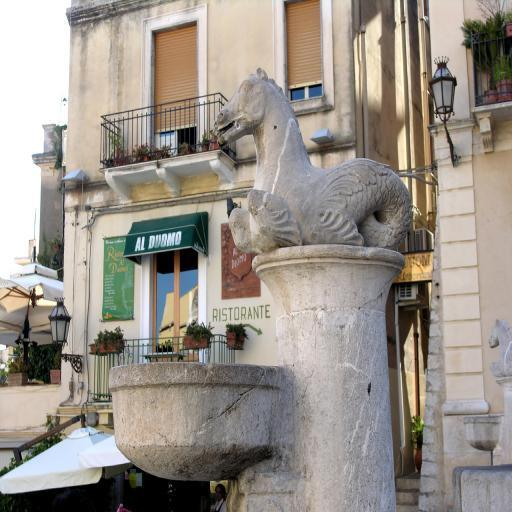horse: (216, 66, 412, 246)
